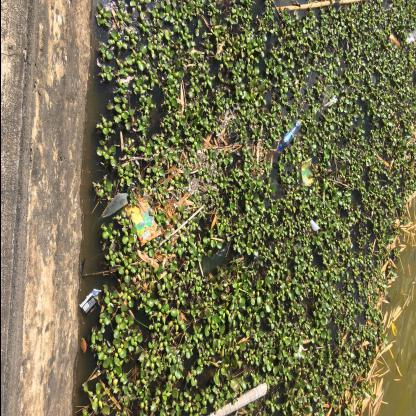plastik: (124, 197, 160, 247), (276, 120, 300, 150)
